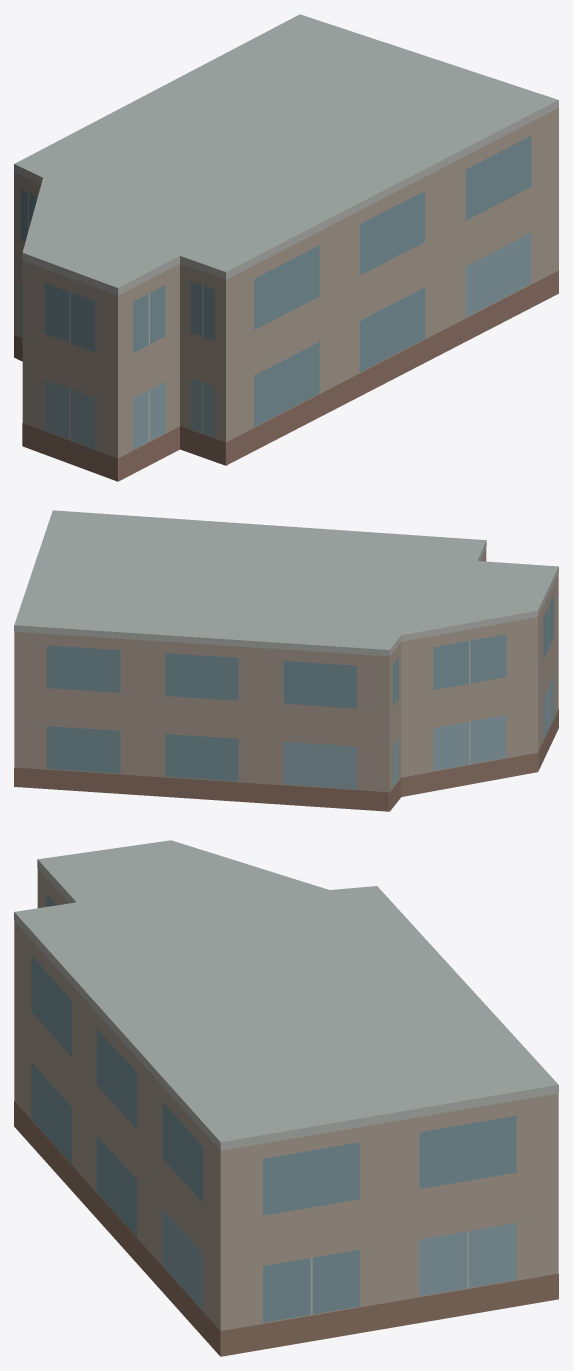
File: survey-upis-32886672.glb
The picture shows the model from 3 angles, top to bottom: view 1: azimuth 30°, elevation 25°; view 2: azimuth 150°, elevation 25°; view 3: azimuth 270°, elevation 25°; orthographic projection. The views are drawn at different scales.
Visible parts, largest first — view 1: survey-upis-32886672.tmp; view 2: survey-upis-32886672.tmp; view 3: survey-upis-32886672.tmp.
Boxes of the visible parts, bbox=[...] form: survey-upis-32886672.tmp: bbox=[14, 14, 558, 481]; survey-upis-32886672.tmp: bbox=[14, 510, 558, 811]; survey-upis-32886672.tmp: bbox=[14, 840, 558, 1356].
Size of the model in its own units: 18.44 by 6.1 by 14.05.
